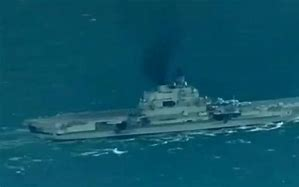smoke: (133, 1, 183, 82)
